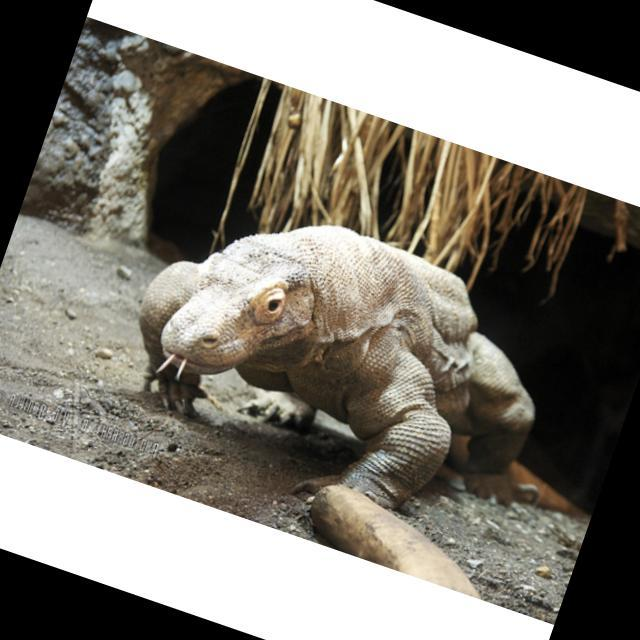KomodoDragon: (96, 170, 603, 577)
